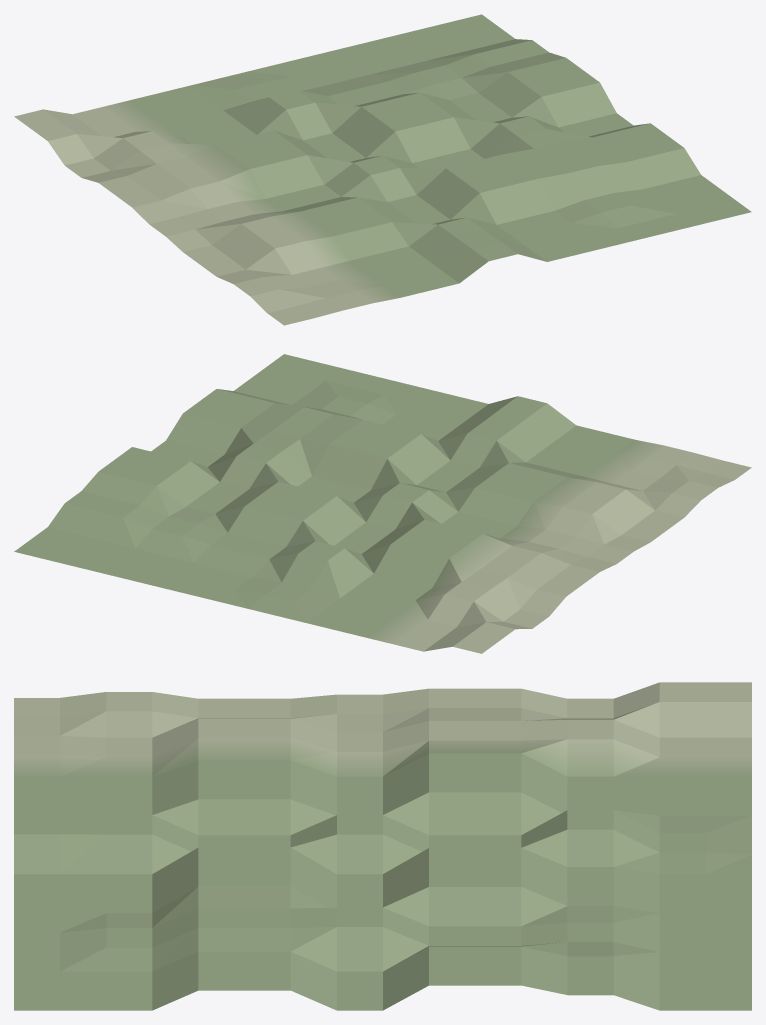
The picture shows the model from 3 angles, top to bottom: view 1: azimuth 30°, elevation 25°; view 2: azimuth 150°, elevation 25°; view 3: azimuth 270°, elevation 25°; orthographic projection. The views are drawn at different scales.
Size of the model in its own units: 32 by 1.28 by 32.
